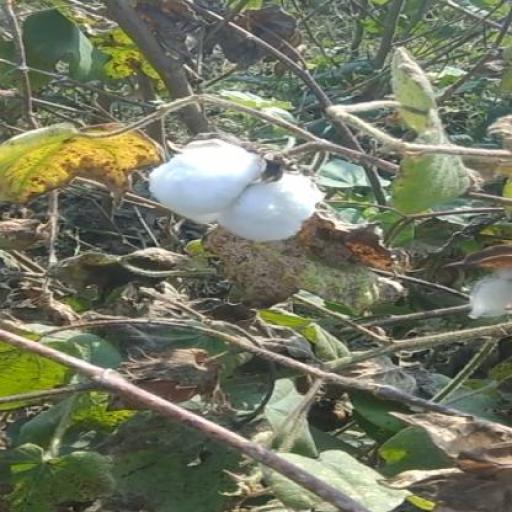cotton_ready: (149, 135, 325, 260)
